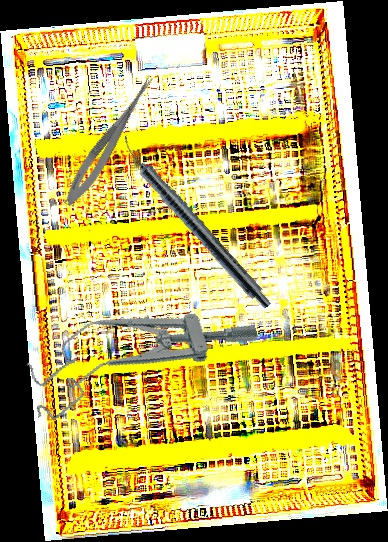Handpiece: (112, 132, 278, 313)
Micro Scissor: (58, 68, 160, 212)
Speculum: (15, 275, 265, 426)
